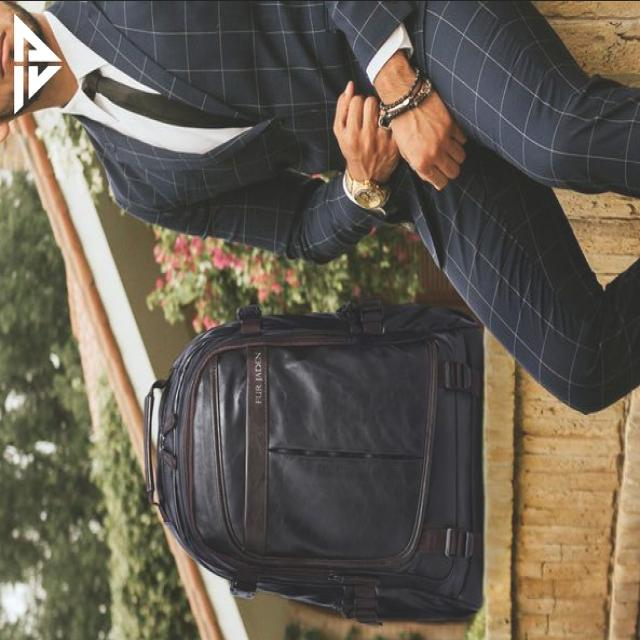backpack: (144, 300, 486, 628)
